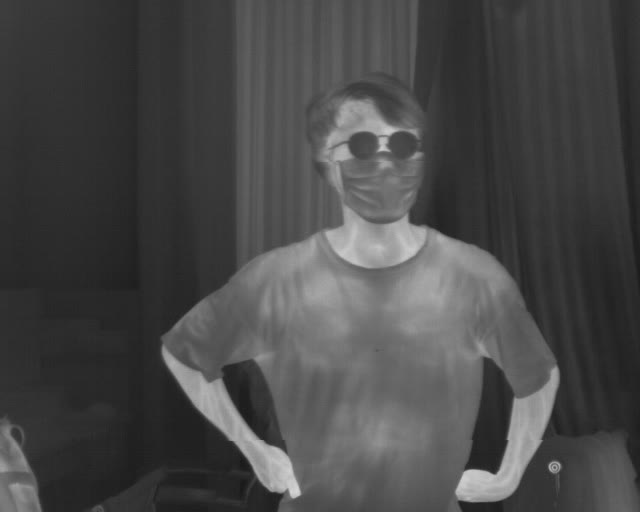face: (266, 129, 356, 252), (179, 183, 260, 301)
